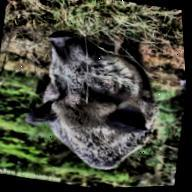boar: (8, 0, 179, 180)
